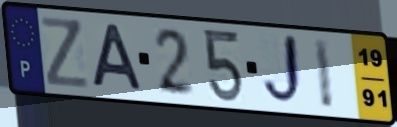2: (153, 25, 197, 97)
5: (200, 26, 245, 104)
A: (90, 22, 146, 95)
I: (311, 36, 337, 111)
J: (259, 32, 306, 110)
Z: (38, 14, 93, 92)
